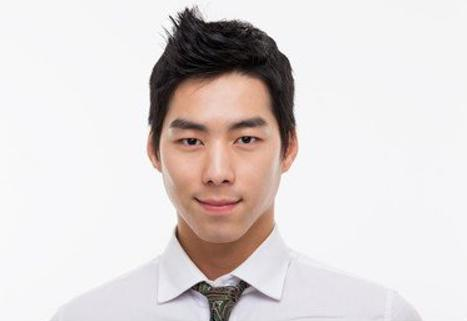Sober: (164, 84, 280, 224)
